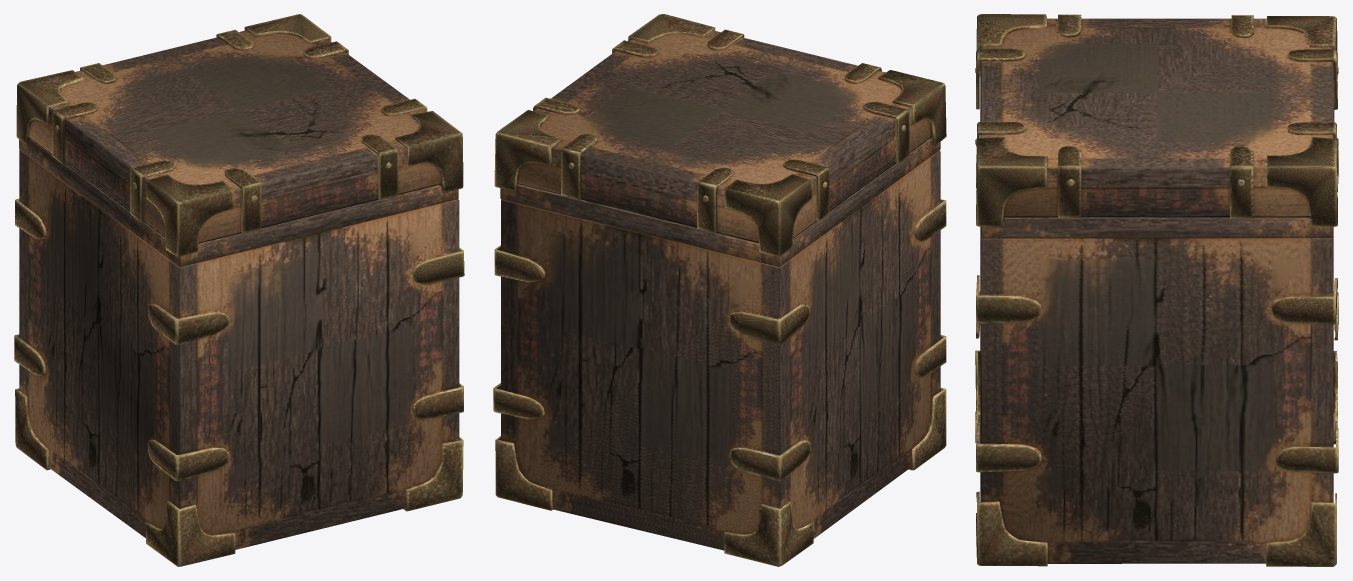
File: tripo_convert_a27fe845-2025-4215-b2f8-17a493eac867.fbx
The picture shows the model from 3 angles, left to right: view 1: azimuth 30°, elevation 25°; view 2: azimuth 150°, elevation 25°; view 3: azimuth 270°, elevation 25°; orthographic projection. The views are drawn at different scales.
Parts seen in each view (by area): view 1: tripo_node_a27fe845; view 2: tripo_node_a27fe845; view 3: tripo_node_a27fe845.
Boxes of the visible parts, x1=… form: tripo_node_a27fe845: x1=14, y1=14, x2=464, y2=566; tripo_node_a27fe845: x1=493, y1=14, x2=946, y2=566; tripo_node_a27fe845: x1=975, y1=14, x2=1338, y2=566.
Bounding box in the file's own units: 0.8301 × 0.998 × 0.8223.
1 material, 1 textured.
